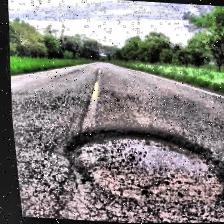pothole: (52, 120, 224, 212)
